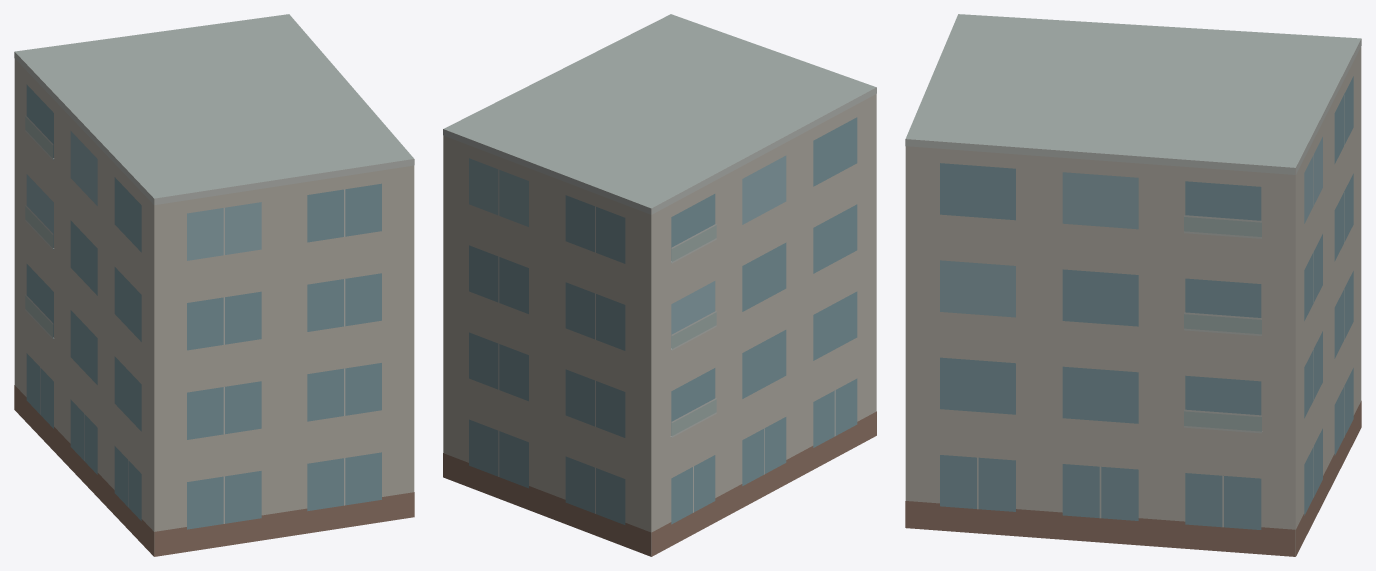
File: survey-upis-33001725.glb
3 views of the same model, side by side, from view 1: azimuth 30°, elevation 25°; view 2: azimuth 150°, elevation 25°; view 3: azimuth 270°, elevation 25° (orthographic). The views are drawn at different scales.
Visible parts, largest first — view 1: survey-upis-33001725.tmp; view 2: survey-upis-33001725.tmp; view 3: survey-upis-33001725.tmp.
Boxes of the visible parts, x1,y1,x2,y2 form: survey-upis-33001725.tmp: (14,14,414,556); survey-upis-33001725.tmp: (443,14,876,556); survey-upis-33001725.tmp: (905,14,1361,556).
Bounding box in the file's own units: 11.25 × 13.25 × 14.09.
